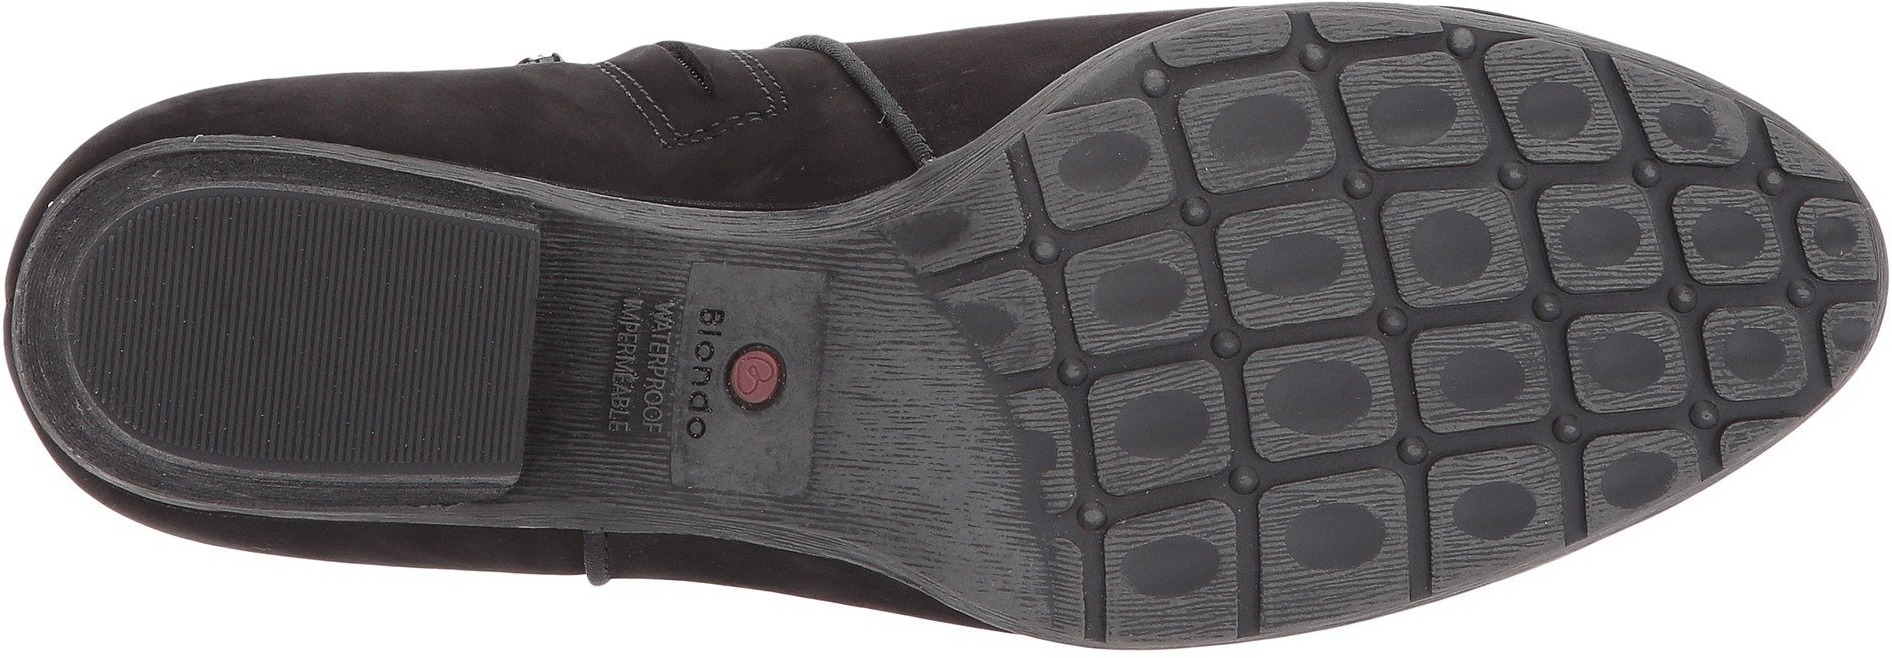other: (306, 250, 510, 456), (101, 235, 294, 423)
quad: (1380, 99, 1713, 427), (1043, 126, 1356, 414)
